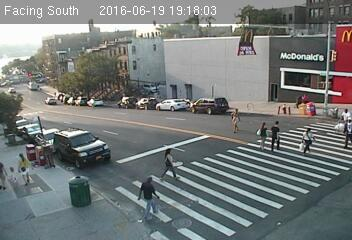neg: (145, 38, 161, 58), (206, 80, 221, 100), (146, 80, 157, 94)
pos: (131, 173, 165, 218), (154, 145, 179, 178), (251, 120, 273, 150), (267, 119, 289, 149), (224, 107, 246, 135), (297, 126, 318, 153), (338, 119, 351, 147), (15, 164, 30, 184), (340, 105, 350, 119), (18, 149, 28, 161)
